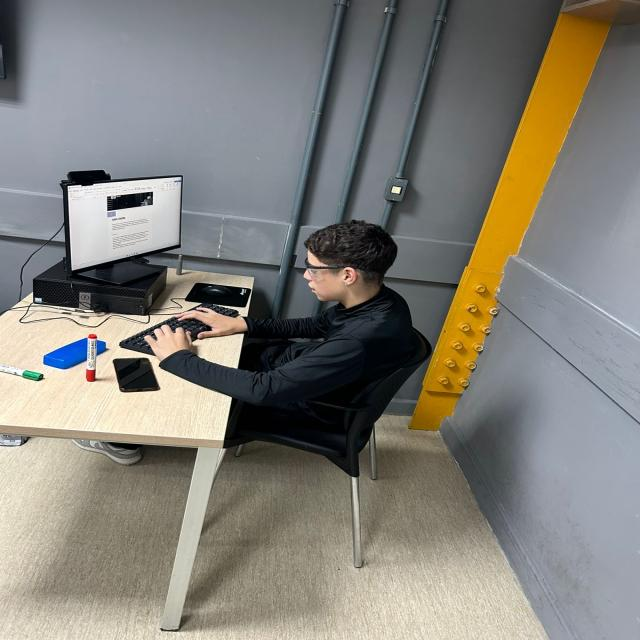oculos-epi: (302, 257, 354, 280)
